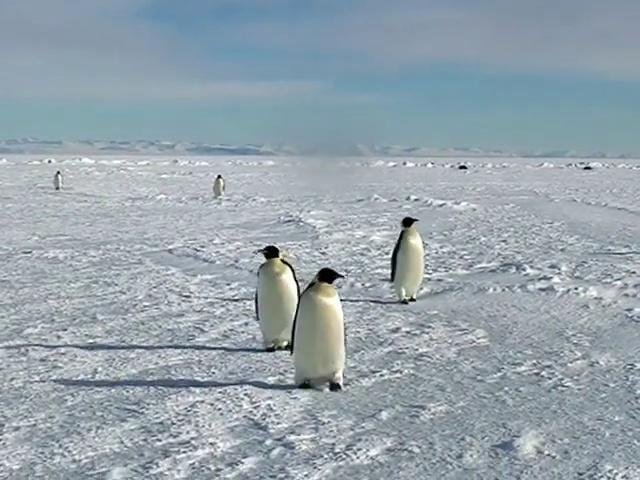animal: (391, 217, 423, 303)
